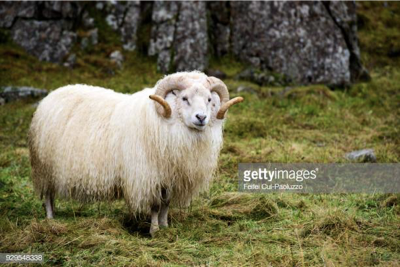koyun: (30, 69, 242, 231)
